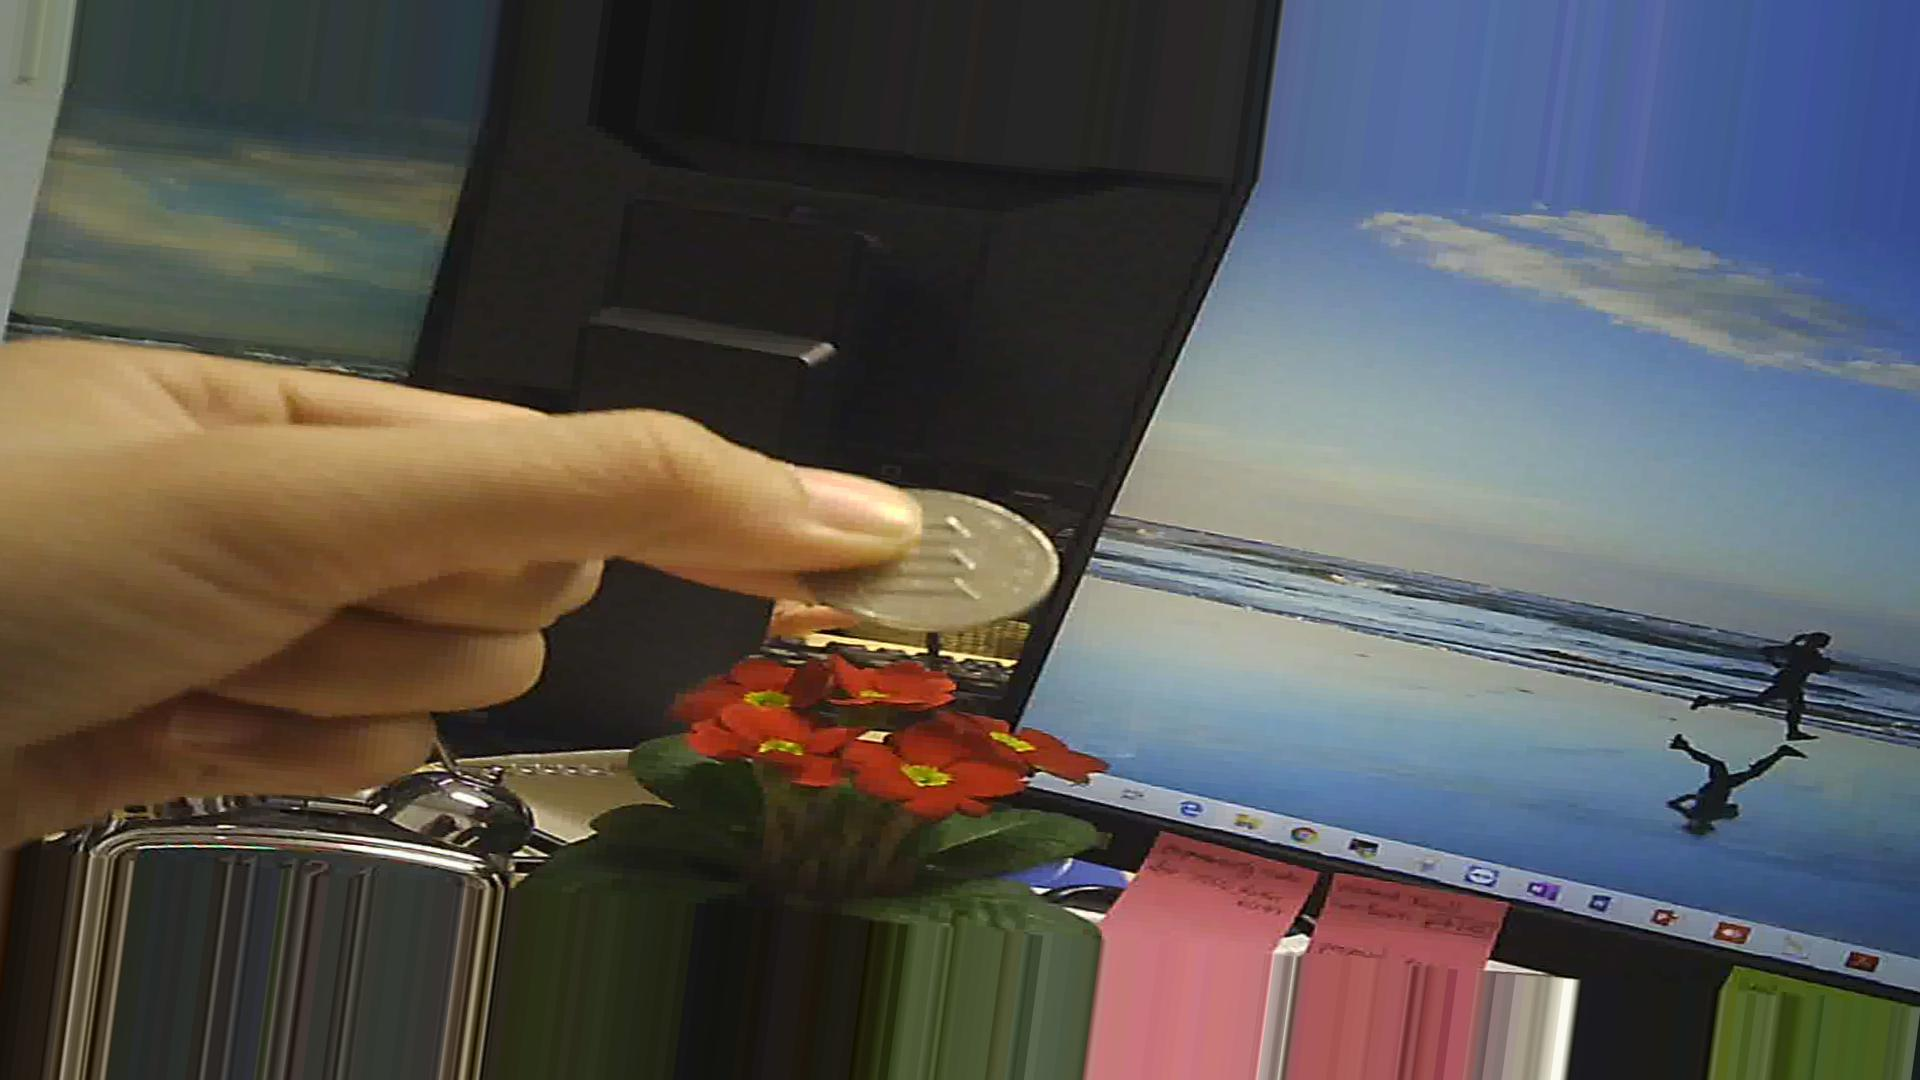100 Yen: (793, 471, 1073, 638)
